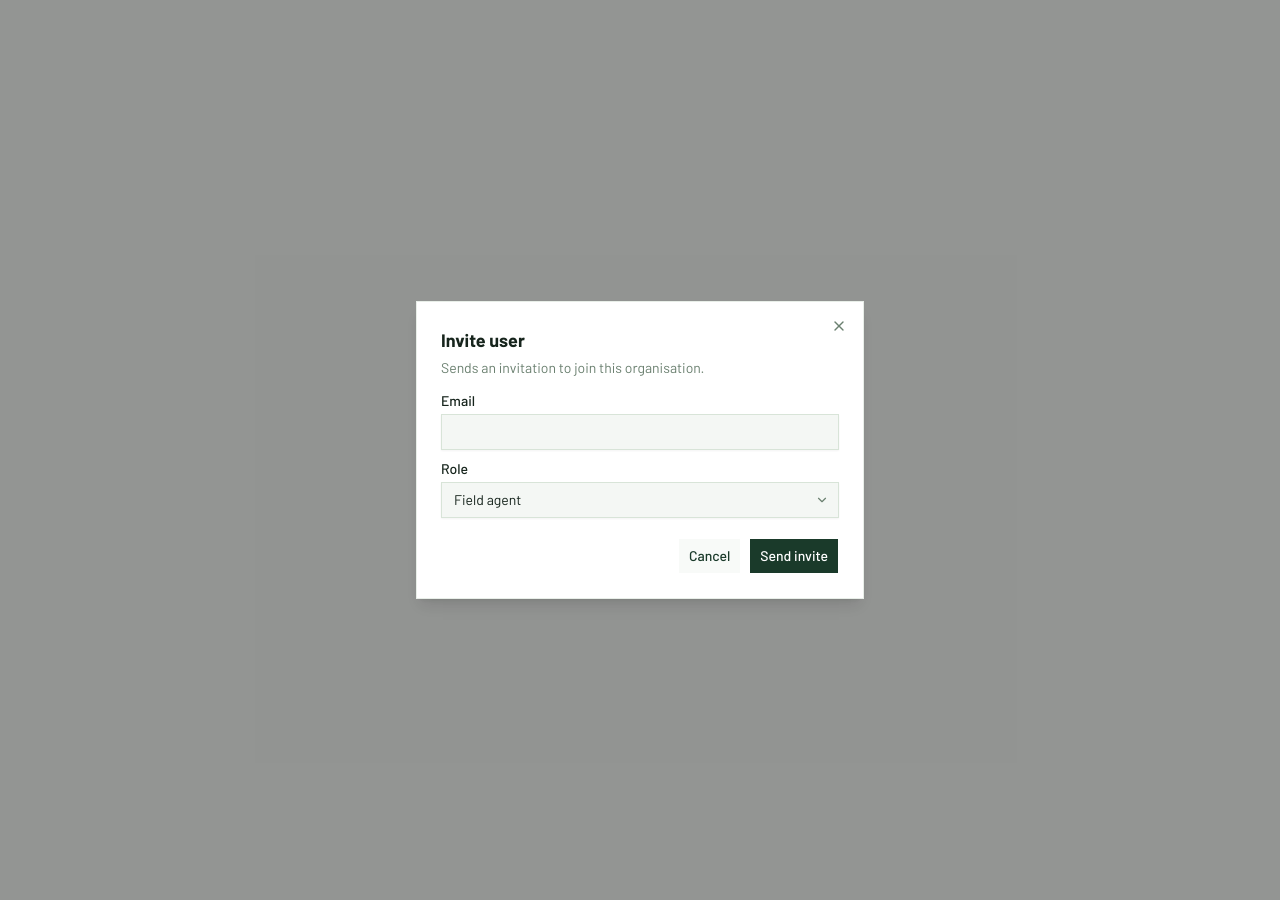
it: UserInviteDialog › does not show a password box when the user already existed
The width and height of the screenshot is (1280, 900).
Type "new@verafi.com" into the field labelled "Email" at [640, 432], box [441,414,839,450]
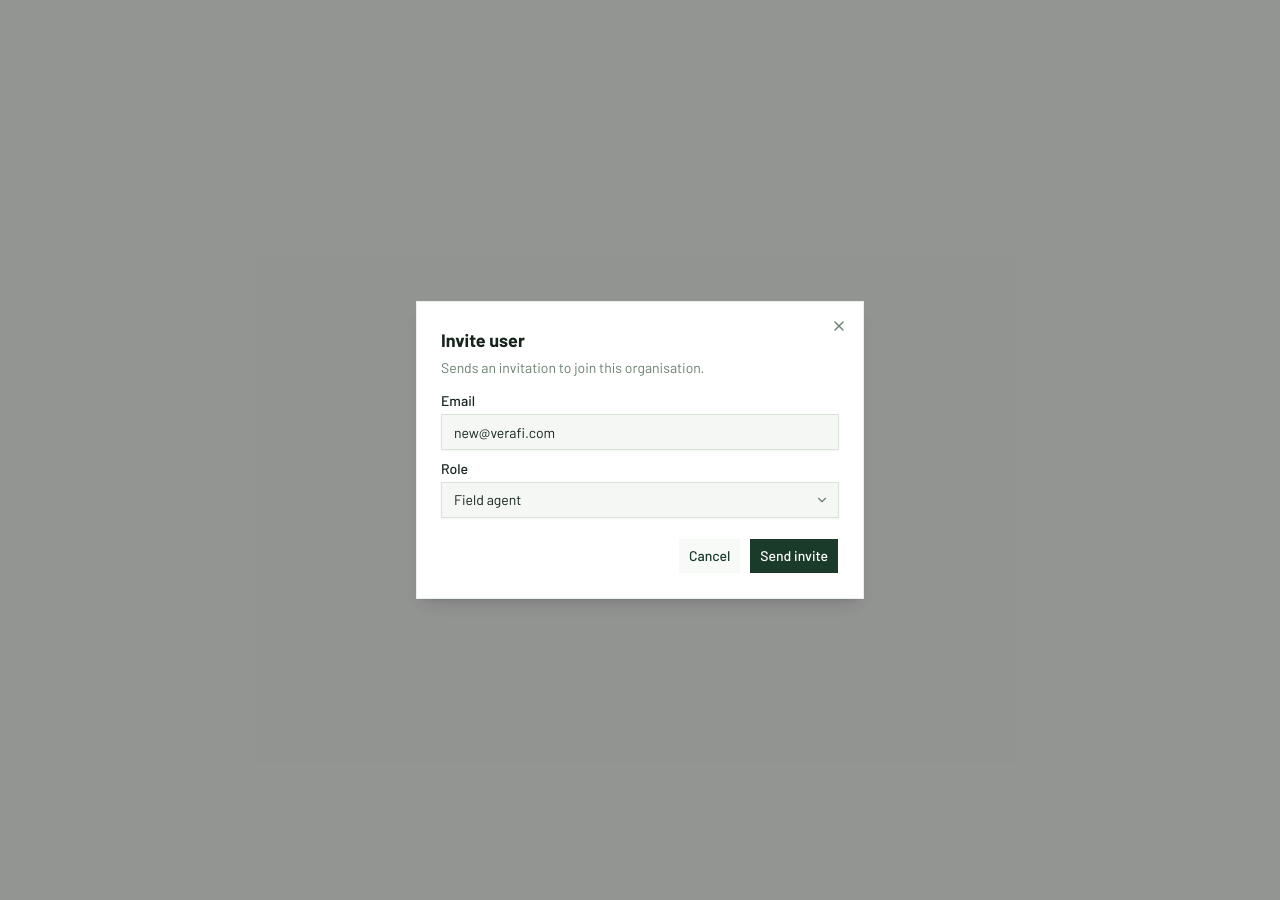
Click the button "Send invite" at [794, 556], box [749,538,839,574]
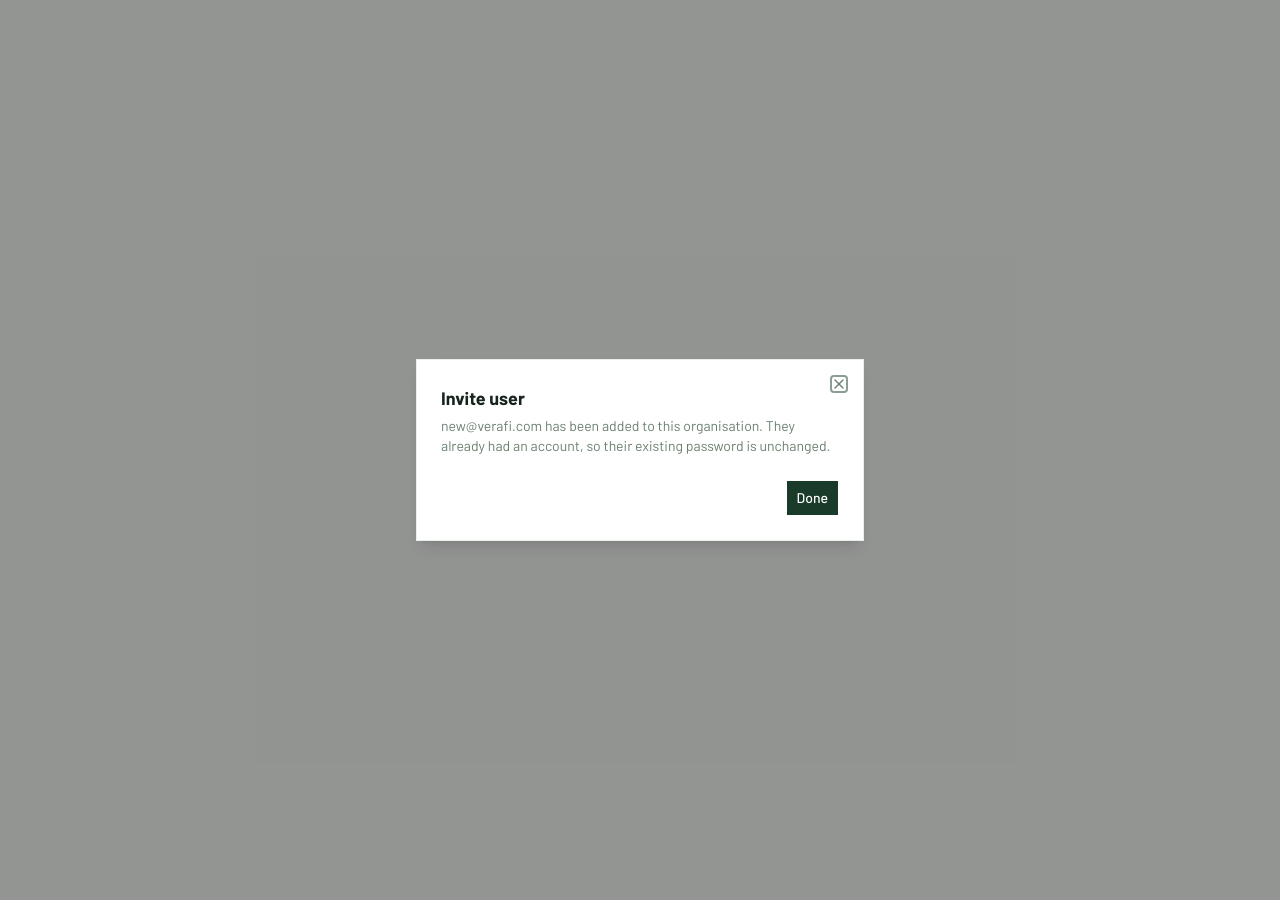
Result: the text "existing password is unchanged" is shown at [441,417,830,454]
